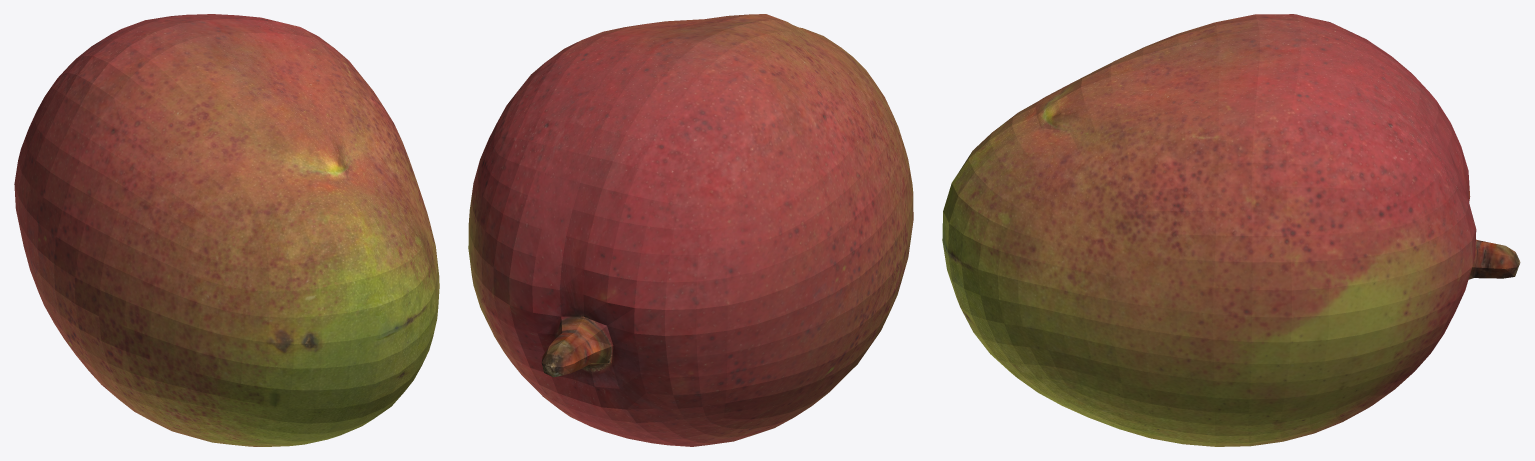
File: potato_4_v000.glb
3 views of the same model, side by side, from view 1: azimuth 30°, elevation 25°; view 2: azimuth 150°, elevation 25°; view 3: azimuth 270°, elevation 25° (orthographic). The views are drawn at different scales.
Parts seen in each view (by area): view 1: mango lp__0; view 2: mango lp__0; view 3: mango lp__0.
Boxes of the visible parts, <box> form: mango lp__0: <box>14,14,439,446</box>; mango lp__0: <box>468,14,913,446</box>; mango lp__0: <box>942,14,1520,446</box>.
Size of the model in its own units: 1.67 by 1.79 by 2.43.
Materials: 1 (1 with a texture image).
